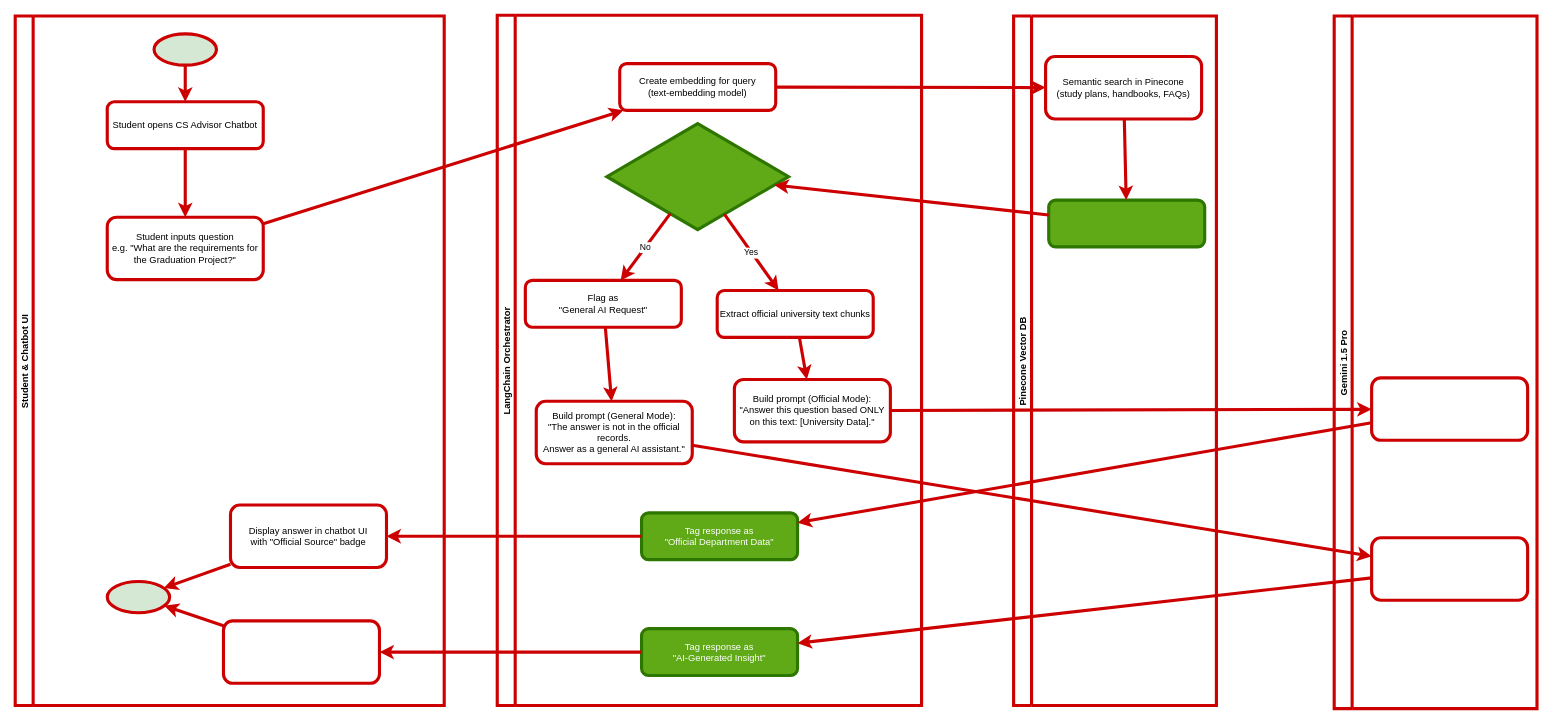
The diagram is 1551 pixels wide and 723 high, and some of its shapes have lost their labels. Each missing label, with the centre of its shape:
Display answer in chatbot UI with "AI-Generated Insight" tag: point 301,651
End: point 138,597
Gemini 1.5 Pro General Mode Generate general AI answer: point 1449,568
Gemini 1.5 Pro In-Context Mode Generate answer from official data: point 1449,408
Official data found? Similarity Score ≥ threshold (e.g. 0.7): point 697,176
Return relevant chunks + Similarity Score: point 1126,223
Start: point 185,49
